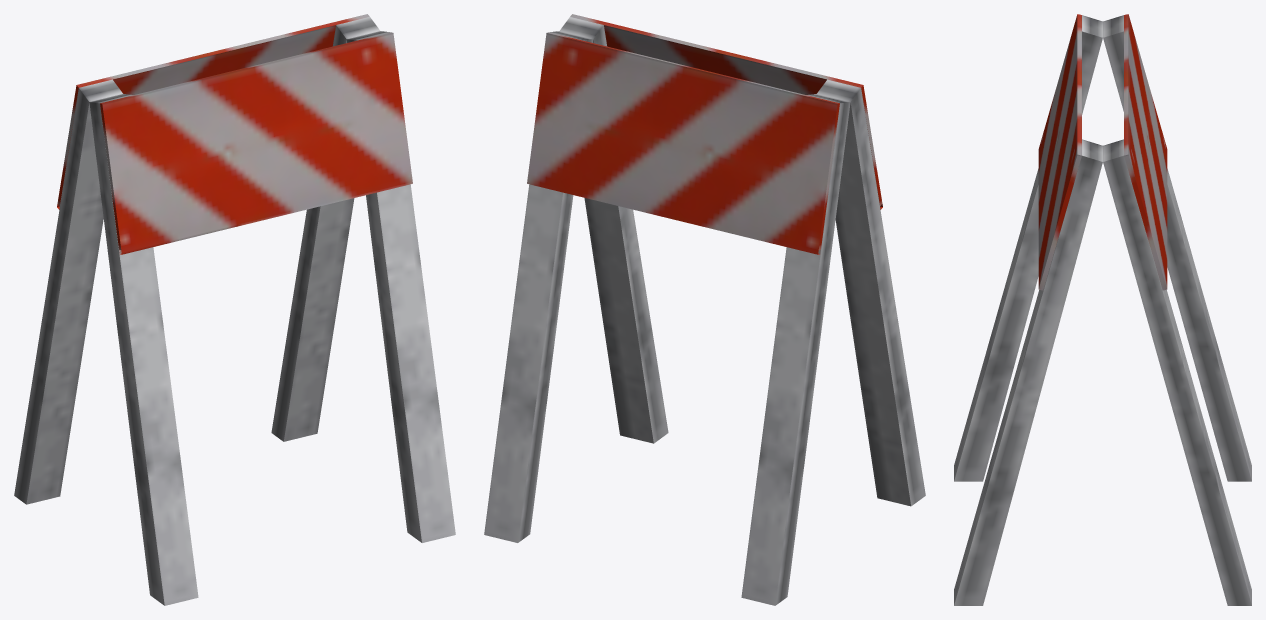
Rendered from Urban_Type2BarrierTop_Model.fbx.
The picture shows the model from 3 angles, left to right: view 1: azimuth 30°, elevation 25°; view 2: azimuth 150°, elevation 25°; view 3: azimuth 270°, elevation 25°; orthographic projection.
Parts seen in each view (by area): view 1: Urban_Type2BarrierTop_Mesh; view 2: Urban_Type2BarrierTop_Mesh; view 3: Urban_Type2BarrierTop_Mesh.
Boxes of the visible parts, box(x1,y1,x2,y2) form: Urban_Type2BarrierTop_Mesh: box(14, 14, 455, 605); Urban_Type2BarrierTop_Mesh: box(484, 14, 925, 605); Urban_Type2BarrierTop_Mesh: box(954, 14, 1251, 605).
Bounding box in the file's own units: 0.7959 × 1.19 × 0.7131.
